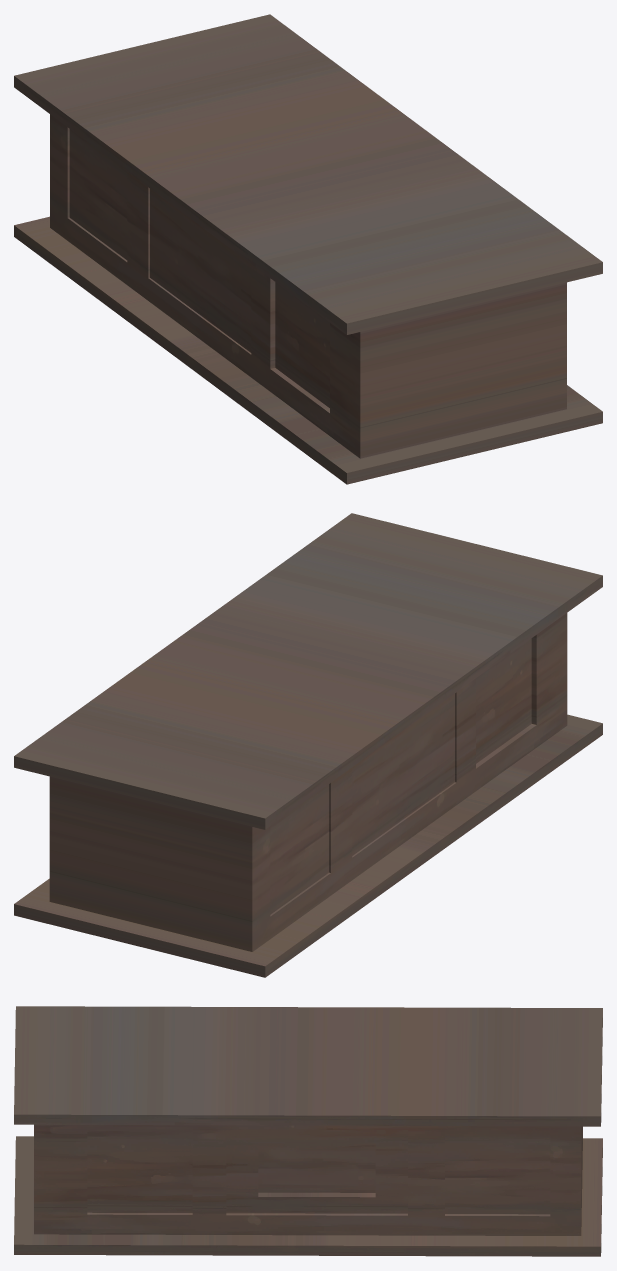
Rendered from Escritorio.obj.
3 renders of one model, top to bottom at view 1: azimuth 30°, elevation 25°; view 2: azimuth 150°, elevation 25°; view 3: azimuth 270°, elevation 25°, orthographic. The views are drawn at different scales.
Parts seen in each view (by area): view 1: pasted__pasted__pCube14 pasted__group group; view 2: pasted__pasted__pCube14 pasted__group group; view 3: pasted__pasted__pCube14 pasted__group group.
Boxes of the visible parts, x1,y1,x2,y2 form: pasted__pasted__pCube14 pasted__group group: (14,14,602,484); pasted__pasted__pCube14 pasted__group group: (14,513,602,977); pasted__pasted__pCube14 pasted__group group: (14,1006,602,1256).
Size of the model in its own units: 1.88 by 1.11 by 4.24.
Materials: 1 (1 with a texture image).
